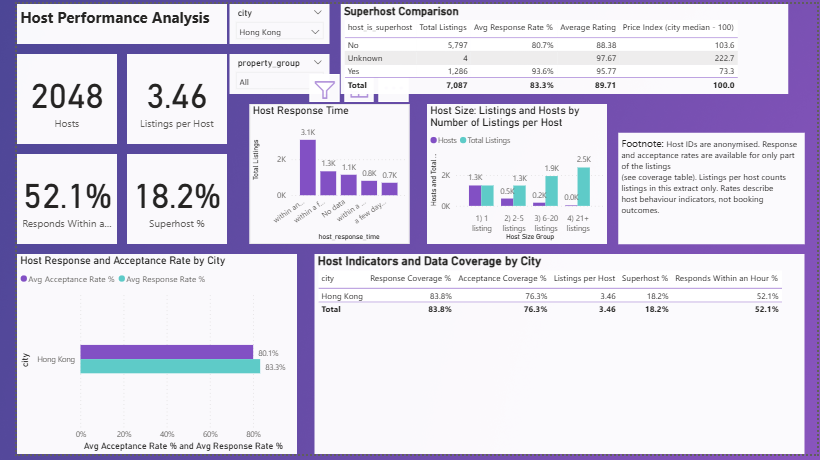

The dashboard page shown, as its layout file describes it:
{"tool":"powerbi","page":{"name":"Host Performance","canvas":[1280,720],"ordinal":3},"visuals":[{"type":"slicer","fields":{"Values":["dim_city.city"]},"box":[339.2,-0.4,160,64],"z":0},{"type":"slicer","fields":{"Values":["dim_listing.property_group"]},"box":[339.2,79.6,160,64],"z":1000},{"type":"textbox","box":[0,0,336,64],"z":2000},{"type":"card","fields":{"Values":["dim_listing.Hosts"]},"box":[0,80,160,144],"z":3000},{"type":"card","fields":{"Values":["dim_listing.Responds Within an Hour %"]},"box":[0,240,160,144],"z":4000},{"type":"card","fields":{"Values":["dim_listing.Superhost %"]},"box":[176,240,160,144],"z":5000},{"type":"card","fields":{"Values":["dim_listing.Listings per Host"]},"box":[176,80,160,144],"z":6000},{"type":"clusteredBarChart","title":"Host Response and Acceptance Rate by City","fields":{"Category":["dim_city.city"],"Y":["dim_listing.Avg Acceptance Rate %","dim_listing.Avg Response Rate %"]},"box":[0,400,448,320],"z":7000},{"type":"tableEx","title":"Host Indicators and Data Coverage by City","fields":{"Values":["dim_city.city","dim_listing.Response Coverage %","dim_listing.Acceptance Coverage %","dim_listing.Listings per Host","dim_listing.Superhost %","dim_listing.Responds Within an Hour %"]},"box":[476,400,784,320],"z":8000},{"type":"clusteredColumnChart","title":"Host Response Time","fields":{"Category":["dim_listing.host_response_time"],"Y":["dim_listing.Total Listings"]},"box":[354,160,256,224],"z":9000},{"type":"clusteredColumnChart","title":"Host Size: Listings and Hosts by Number of Listings per Host","fields":{"Category":["dim_listing.Host Size Group"],"Y":["dim_listing.Hosts","dim_listing.Total Listings"]},"box":[640,160,304,224],"z":10000},{"type":"tableEx","title":"Superhost Comparison","fields":{"Values":["dim_listing.host_is_superhost","dim_listing.Total Listings","dim_listing.Avg Response Rate %","dim_listing.Average Rating","dim_listing.Price Index (city median - 100)"]},"box":[518,0,716,144],"z":11000},{"type":"textbox","box":[962,206,298,178],"z":12000}]}

Visuals, with their boxes in screenshot pixels (x1, y1, x2, y2), scaled from the page's 1280x720 canvas onto the 820x460 screenshot:
slicer - dim_city.city: 217:0:320:41
slicer - dim_listing.property_group: 217:51:320:92
textbox: 0:0:215:41
card - dim_listing.Hosts: 0:51:102:143
card - dim_listing.Responds Within an Hour %: 0:153:102:245
card - dim_listing.Superhost %: 113:153:215:245
card - dim_listing.Listings per Host: 113:51:215:143
"Host Response and Acceptance Rate by City" clusteredBarChart: 0:256:287:459
"Host Indicators and Data Coverage by City" tableEx: 305:256:807:459
"Host Response Time" clusteredColumnChart: 227:102:391:245
"Host Size: Listings and Hosts by Number of Listings per Host" clusteredColumnChart: 410:102:605:245
"Superhost Comparison" tableEx: 332:0:791:92
textbox: 616:132:807:245
